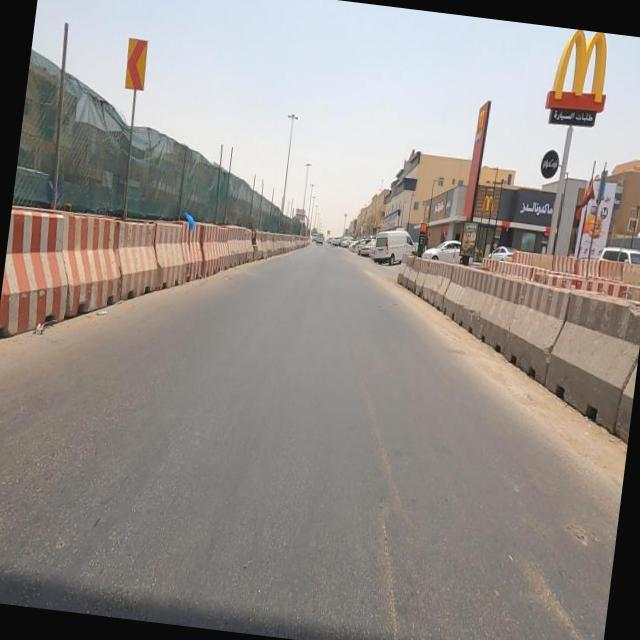debris: (158, 183, 222, 256)
